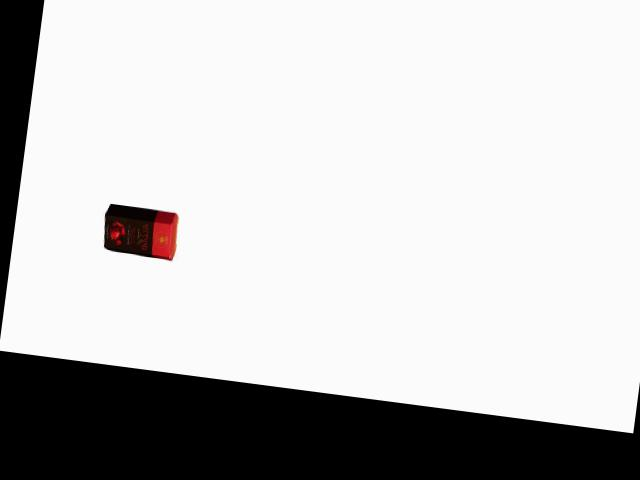chocolate: (93, 200, 183, 262)
